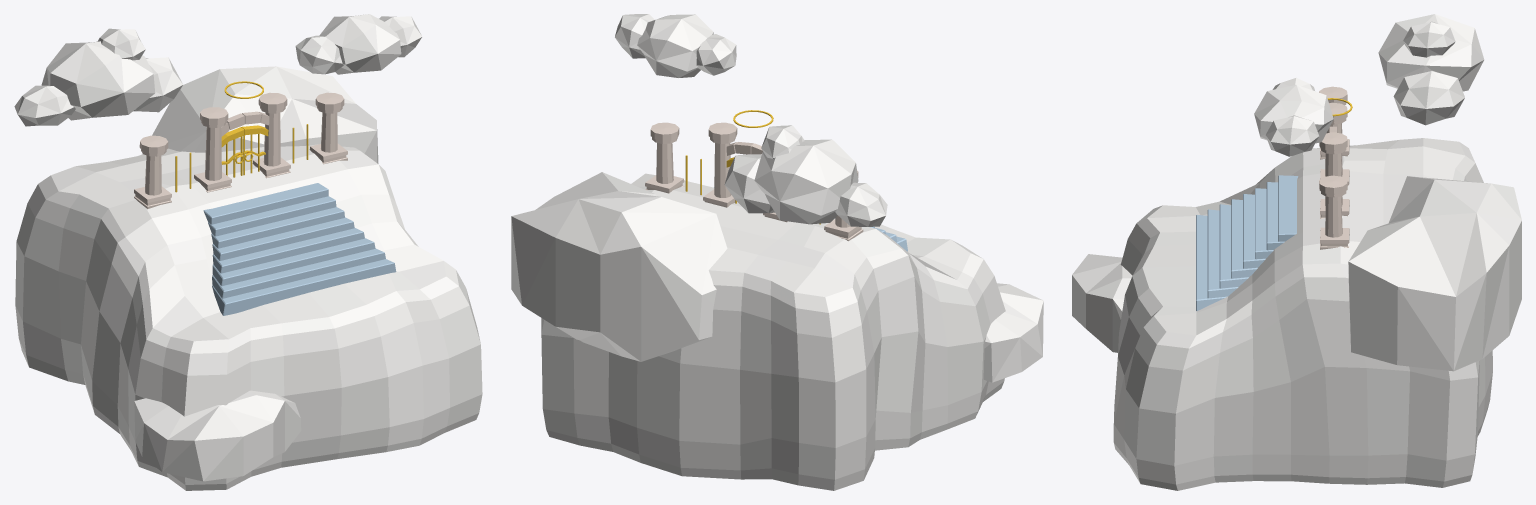
The model's file is Island_10.fbx.
The picture shows the model from 3 angles, left to right: view 1: azimuth 30°, elevation 25°; view 2: azimuth 150°, elevation 25°; view 3: azimuth 270°, elevation 25°; orthographic projection. The views are drawn at different scales.
Parts seen in each view (by area): view 1: Isl_10_Base, Isl_10_Stairs, Isl_10_Cloud_1, Isl_10_Fence, Isl_10_Cloud_2, Isl_10_Gate_Door_2, Isl_10_Gate_Door_1; view 2: Isl_10_Base, Isl_10_Cloud_1, Isl_10_Cloud_2, Isl_10_Fence; view 3: Isl_10_Base, Isl_10_Cloud_1, Isl_10_Stairs, Isl_10_Cloud_2, Isl_10_Fence.
Part boxes in pixels (box(x1,y1,x2,y2)): Isl_10_Base: box(15, 66, 482, 490); Isl_10_Stairs: box(203, 183, 396, 315); Isl_10_Cloud_1: box(14, 28, 183, 126); Isl_10_Fence: box(134, 81, 347, 209); Isl_10_Cloud_2: box(295, 14, 422, 74); Isl_10_Gate_Door_2: box(221, 127, 244, 177); Isl_10_Gate_Door_1: box(241, 125, 268, 175); Isl_10_Base: box(511, 172, 1043, 490); Isl_10_Cloud_1: box(724, 125, 887, 226); Isl_10_Cloud_2: box(615, 14, 736, 77); Isl_10_Fence: box(645, 110, 863, 241); Isl_10_Base: box(1072, 138, 1521, 490); Isl_10_Cloud_1: box(1378, 14, 1484, 125); Isl_10_Stairs: box(1196, 175, 1298, 311); Isl_10_Cloud_2: box(1254, 78, 1333, 156); Isl_10_Fence: box(1319, 86, 1352, 249).
Bounding box in the file's own units: 2354 × 2446 × 2243.
